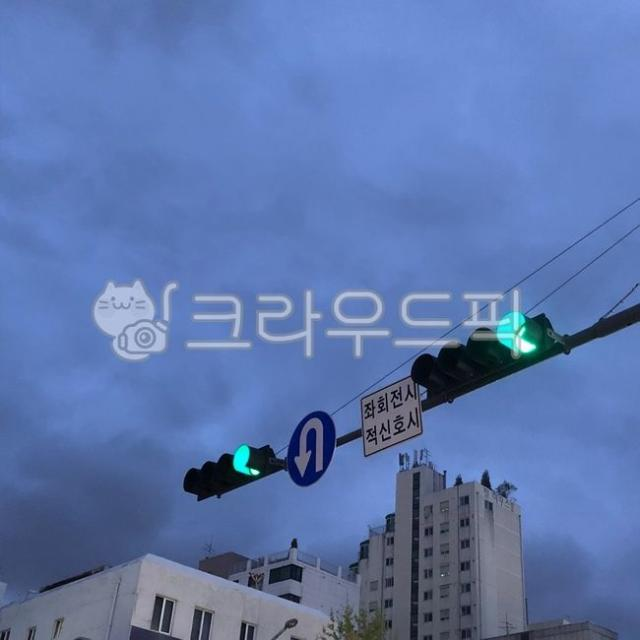Green_light: (166, 435, 280, 499)
